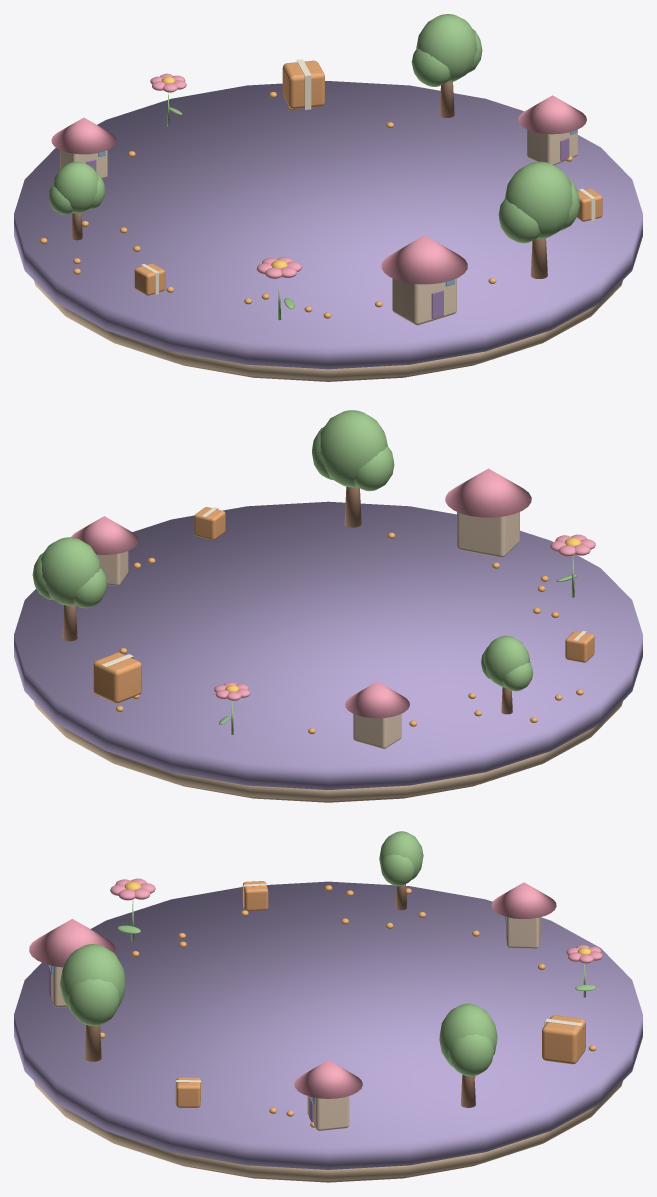
Rendered from world.glb.
3 renders of one model, top to bottom at view 1: azimuth 30°, elevation 25°; view 2: azimuth 150°, elevation 25°; view 3: azimuth 270°, elevation 25°, orthographic.
Parts seen in each view (by area): view 1: Cone, Cone.001, tree.003, house.003, tree.001, house.001, tree.002, house.002, parcel.001, flower.002, parcel.002, parcel.003 (+2 smaller); view 2: Cone, Cone.001, tree.003, house.003, tree.001, house.002, tree.002, house.001, parcel.001, flower.002, parcel.003, parcel.002 (+1 smaller); view 3: Cone, Cone.001, tree.003, tree.001, house.001, house.002, house.003, tree.002, parcel.001, flower.002, parcel.003, parcel.002 (+2 smaller).
Part boxes in pixels (x1,y1,x2,y2): Cone: [14, 81, 642, 369]; Cone.001: [34, 280, 622, 380]; tree.003: [498, 161, 579, 278]; house.003: [381, 235, 467, 325]; tree.001: [411, 14, 482, 117]; house.001: [518, 95, 586, 165]; tree.002: [48, 161, 105, 240]; house.002: [51, 117, 116, 178]; parcel.001: [282, 59, 324, 109]; flower.002: [256, 257, 302, 320]; parcel.002: [134, 263, 165, 295]; parcel.003: [577, 188, 602, 221]; Cone: [14, 501, 642, 789]; Cone.001: [34, 701, 622, 801]; tree.003: [312, 410, 394, 527]; house.003: [445, 468, 531, 557]; tree.001: [32, 537, 107, 641]; house.002: [345, 681, 409, 748]; tree.002: [481, 635, 533, 714]; house.001: [71, 516, 138, 585]; parcel.001: [93, 652, 141, 703]; flower.002: [550, 534, 595, 597]; parcel.003: [194, 507, 225, 539]; parcel.002: [565, 631, 594, 662]; Cone: [14, 881, 642, 1169]; Cone.001: [34, 1081, 622, 1181]; tree.003: [60, 944, 125, 1061]; tree.001: [439, 1003, 497, 1107]; house.001: [294, 1060, 362, 1130]; house.002: [491, 882, 556, 948]; house.003: [29, 918, 115, 1007]; tree.002: [379, 831, 423, 910]; parcel.001: [542, 1015, 585, 1064]; flower.002: [110, 878, 155, 941]; parcel.003: [175, 1077, 200, 1107]; parcel.002: [242, 881, 268, 911].
Bounding box in the file's own units: 9.6 × 2.67 × 9.6.
